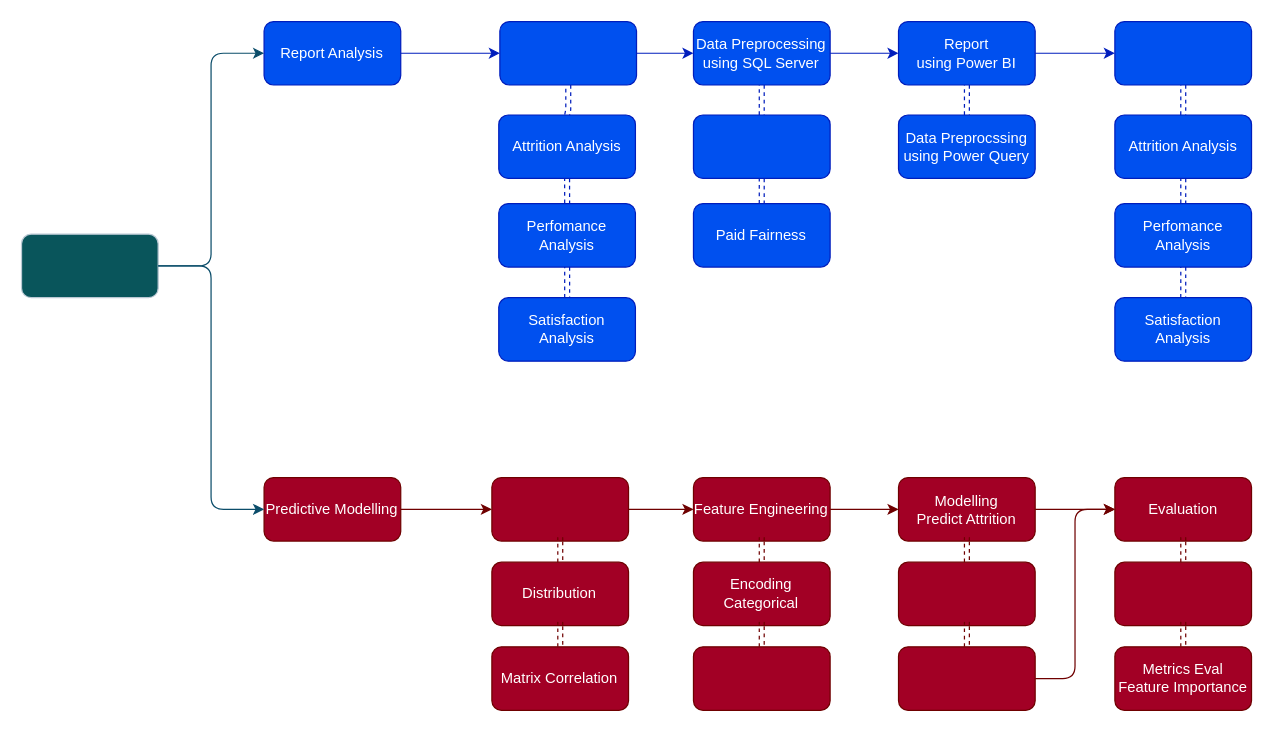
Some shapes in this 1273 by 732 pixel diagram are drawn without their labels. Here are the shapes that lost their labels. From the top down, the centre of each, then its label:
At (568,52): "Business Understanding".
At (1183,52): "Summary Analysis".
At (761,146): "Decoding Categorical".
At (89,265): "HR Analytics".
At (560,508): "EDA".
At (966,593): "Default Parameter".
At (1183,593): "Model Algorithm".
At (761,678): "Feature Selection".
At (966,678): "HT Parameter".
